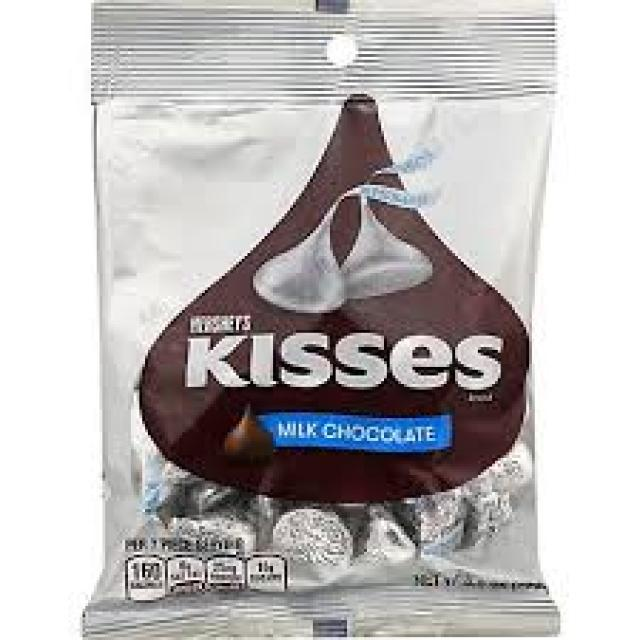kisses: (253, 205, 355, 332), (326, 197, 438, 308), (278, 513, 362, 585), (363, 510, 422, 579), (426, 506, 496, 557)
